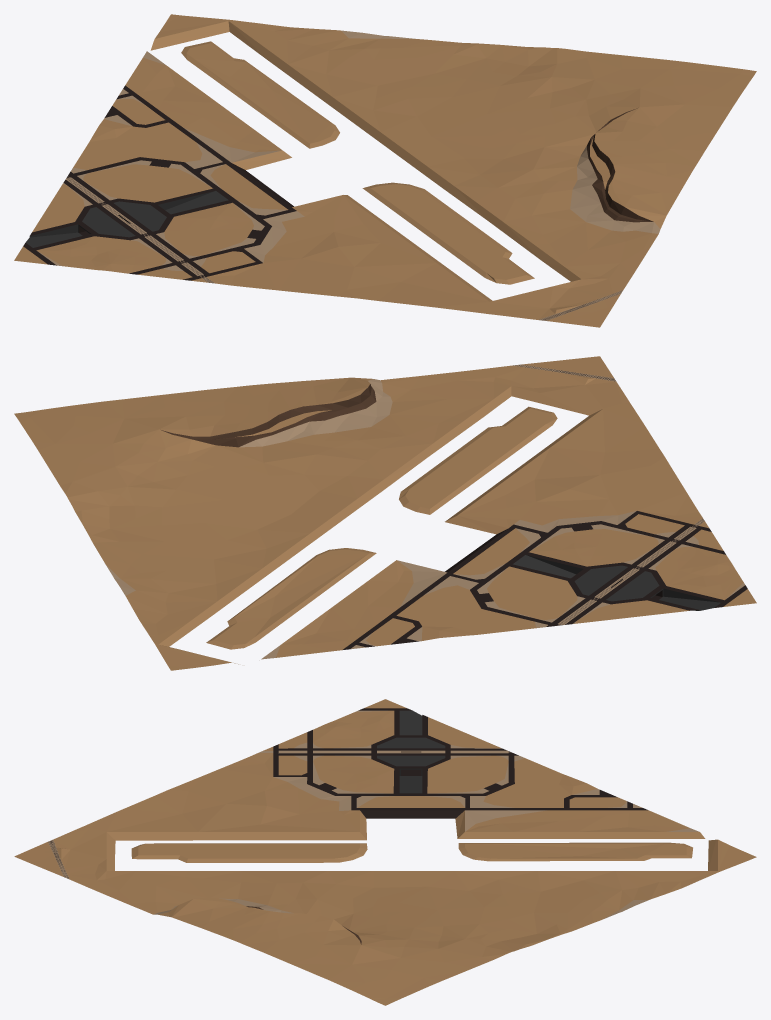
The model's file is Arid_19_11.glb.
3 views of the same model, one above another, from view 1: azimuth 30°, elevation 25°; view 2: azimuth 150°, elevation 25°; view 3: azimuth 270°, elevation 25° (orthographic). The views are drawn at different scales.
Visible parts, largest first — view 1: arid_island_19_11; view 2: arid_island_19_11; view 3: arid_island_19_11.
Boxes of the visible parts, x1,y1,x2,y2 form: arid_island_19_11: (14, 14, 756, 327); arid_island_19_11: (14, 356, 756, 670); arid_island_19_11: (14, 699, 756, 1005).
Bounding box in the file's own units: 1414 × 42 × 1414.
